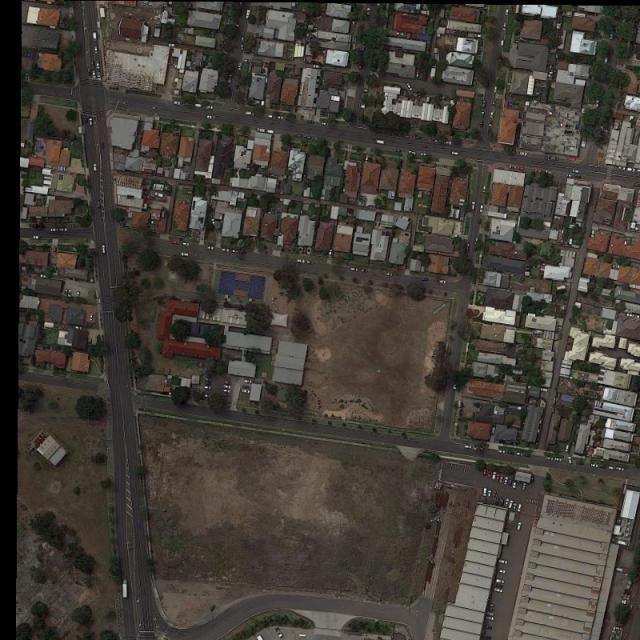vehicle: (123, 579, 128, 598), (274, 627, 282, 638), (245, 110, 257, 116), (503, 498, 510, 508), (487, 123, 493, 134), (312, 63, 323, 69), (451, 150, 462, 156), (406, 82, 414, 90), (507, 501, 514, 510), (470, 201, 477, 210), (498, 559, 508, 565), (540, 387, 550, 393), (97, 70, 102, 81), (375, 139, 386, 144), (484, 624, 493, 630), (206, 114, 215, 120), (516, 522, 522, 531), (257, 127, 266, 133), (40, 274, 49, 280), (572, 168, 581, 174), (496, 579, 506, 584), (499, 474, 504, 484), (492, 471, 497, 481), (483, 468, 488, 478), (616, 467, 626, 472), (499, 498, 504, 508), (482, 100, 487, 110), (93, 163, 98, 173), (421, 153, 431, 158), (511, 503, 517, 511), (590, 230, 596, 238), (408, 150, 416, 156), (494, 588, 503, 593), (494, 583, 503, 588), (502, 22, 507, 31), (95, 60, 100, 69), (565, 444, 570, 453), (513, 480, 518, 489), (504, 476, 509, 485), (517, 503, 522, 512), (89, 312, 94, 321), (243, 379, 252, 384), (242, 384, 251, 389), (421, 277, 430, 282), (491, 101, 496, 110), (89, 118, 94, 127), (443, 140, 452, 145), (550, 155, 559, 160), (194, 103, 203, 108), (102, 244, 106, 255), (482, 636, 492, 640), (486, 611, 494, 616), (93, 31, 97, 41), (92, 70, 97, 78), (554, 457, 562, 462), (546, 456, 554, 461), (507, 450, 515, 455), (498, 449, 506, 454), (495, 474, 500, 482), (483, 487, 487, 497), (487, 490, 492, 498), (568, 457, 573, 465), (493, 490, 498, 498), (172, 241, 180, 246), (350, 267, 358, 272), (294, 133, 302, 138), (480, 112, 485, 120), (464, 244, 469, 252), (366, 8, 370, 18), (485, 617, 494, 621), (94, 45, 98, 54), (577, 461, 586, 465), (75, 326, 84, 330), (203, 386, 212, 390), (242, 390, 251, 394), (181, 253, 190, 257), (306, 260, 315, 264), (438, 280, 447, 284), (490, 110, 494, 119), (238, 62, 242, 71), (97, 200, 101, 209), (626, 314, 635, 318), (519, 151, 528, 155), (483, 185, 487, 194), (246, 10, 250, 19), (608, 466, 615, 471), (479, 120, 484, 127), (277, 115, 284, 120), (307, 120, 314, 125), (506, 7, 510, 15), (498, 570, 506, 574), (522, 482, 526, 490), (590, 463, 598, 467), (205, 378, 213, 382), (224, 386, 232, 390), (206, 246, 214, 250), (222, 248, 230, 252), (231, 250, 239, 254), (182, 243, 190, 247), (68, 290, 72, 298), (64, 289, 68, 297), (321, 122, 329, 126), (60, 228, 68, 232), (627, 168, 635, 172), (518, 166, 526, 170), (566, 174, 574, 178), (574, 174, 582, 178), (618, 166, 626, 170), (474, 236, 478, 244), (500, 40, 504, 48), (508, 166, 518, 169), (494, 86, 498, 93), (244, 59, 251, 63), (34, 235, 41, 239), (90, 60, 94, 67), (173, 102, 182, 105), (297, 259, 306, 262), (50, 229, 59, 232), (206, 106, 214, 109), (496, 498, 499, 506), (204, 395, 212, 398), (224, 381, 232, 384), (223, 390, 231, 393), (223, 394, 231, 397), (386, 273, 394, 276), (268, 115, 276, 118), (612, 266, 620, 269), (406, 135, 414, 138), (394, 149, 402, 152), (480, 205, 483, 213), (516, 452, 523, 455), (465, 445, 472, 448), (77, 291, 80, 298), (489, 471, 491, 479), (637, 315, 640, 318), (637, 169, 640, 172)
